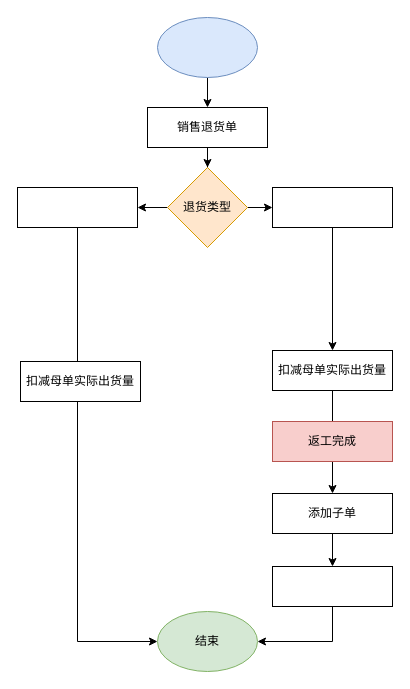
This 410x689 diagram has some shape labels left out. Each missing label, with the centre of its shape:
"增加母单实际出货量" goes at point 332,586.
"开始" goes at point 207,47.
"退扣" goes at point 77,207.
"退补" goes at point 332,207.
